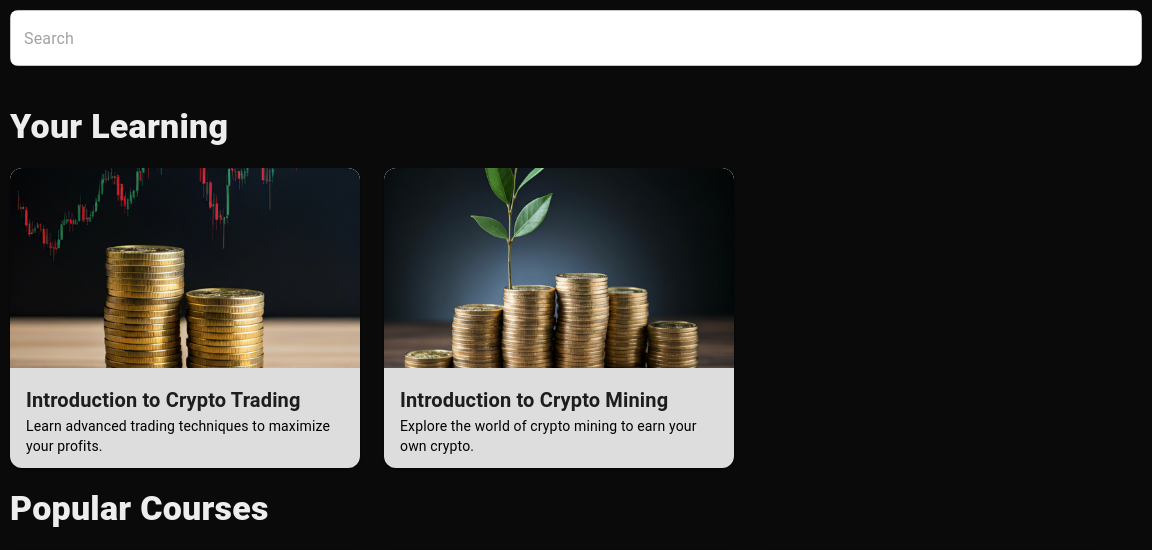
Test case: MainSection Component › shows no courses when search term does not match
Note: Simulate typing a non-matching search term
Type "Nonexistent Course" into the field with placeholder "Search" at (576,38), box [10,10,1142,66]
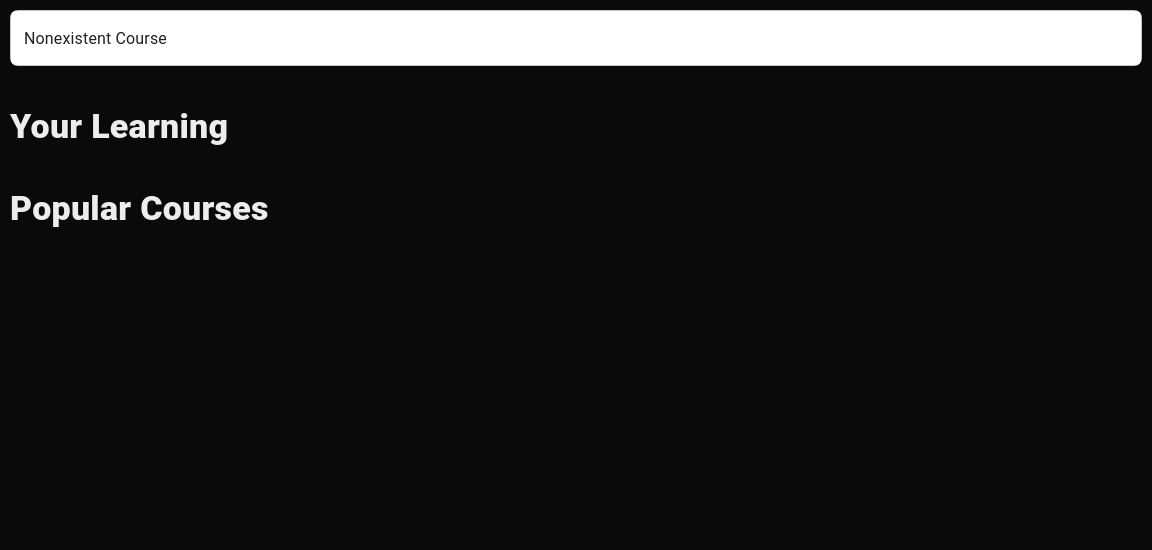
Expected: the heading "Introduction to Crypto Trading" is gone
